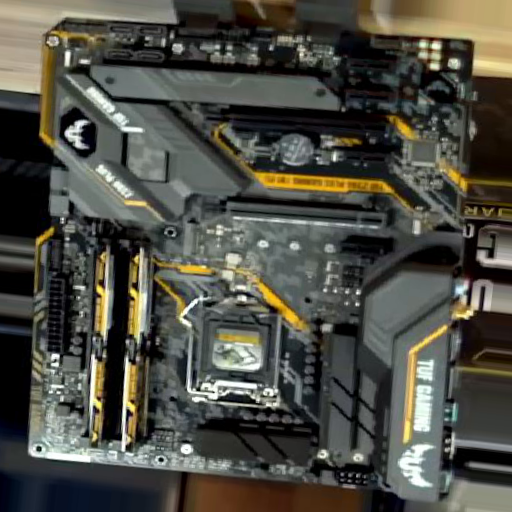CPU: (191, 290, 282, 411)
GPU: (197, 107, 388, 140), (195, 197, 385, 229)
MOTHERBOARD: (30, 23, 475, 496)
RAM: (81, 231, 151, 447)
SSD: (181, 222, 201, 259)
